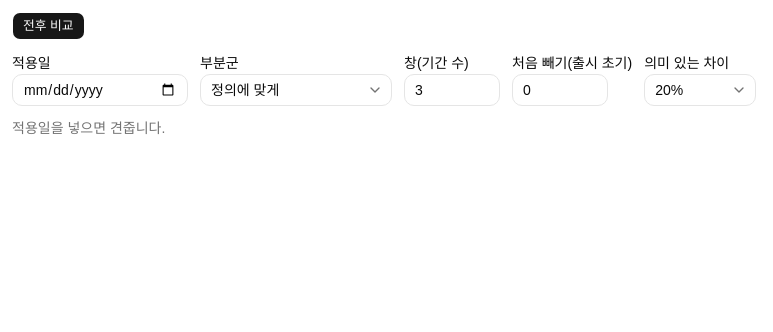
it: 분석 탭 › 전후 비교는 적용일을 넣어야 묻고, 결론과 「대책 때문」 이 아니라는 주의를 앞에 둔다
Expected: the text "적용일을 넣으면 견줍니다." is shown, x1=12 y1=120 x2=165 y2=136
Type "2026-07-01" into the date field labelled "적용일" at (100, 90), box x1=12 y1=74 x2=188 y2=106
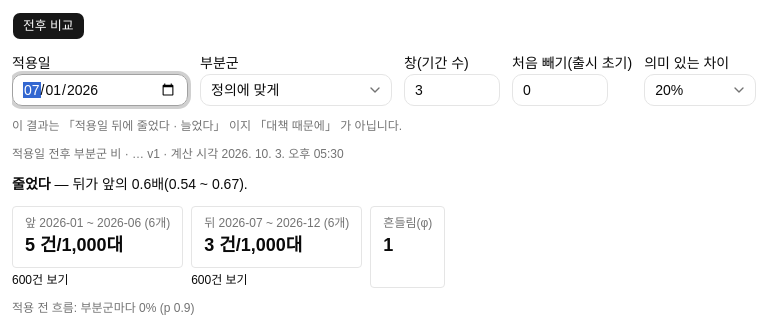
Now the text "줄었다" is shown, box x1=12 y1=176 x2=51 y2=192
Now the text "줄었다 — 뒤가 앞의 0.6배(0.54 ~ 0.67)." is shown, box x1=12 y1=176 x2=248 y2=192
Now the list item "이 결과는 「적용일 뒤에 줄었다 · 늘었다」 이지 「대책 때문에」 가 아닙니다." is shown, box x1=12 y1=119 x2=402 y2=133
